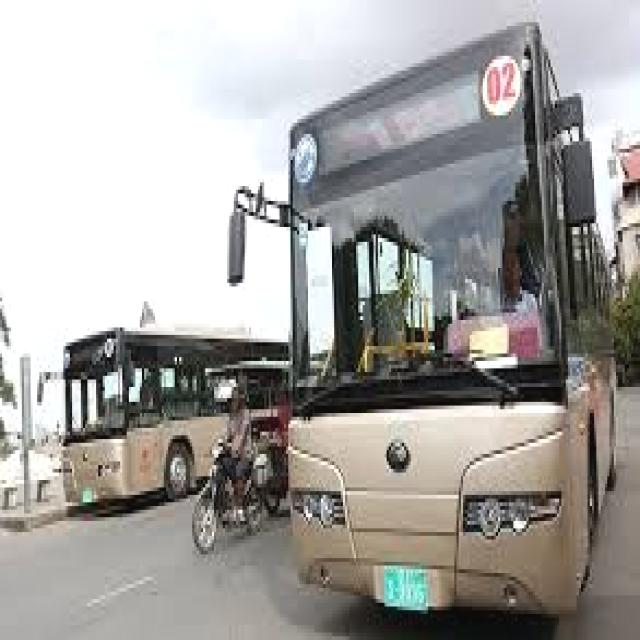bus: (270, 11, 639, 640), (51, 318, 288, 548)
